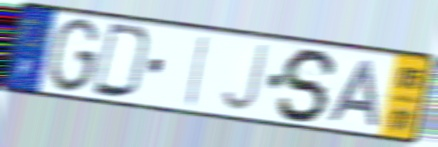A: (326, 59, 382, 130)
D: (90, 20, 155, 102)
G: (45, 16, 103, 96)
I: (183, 33, 212, 109)
J: (218, 42, 270, 114)
S: (275, 46, 342, 125)
